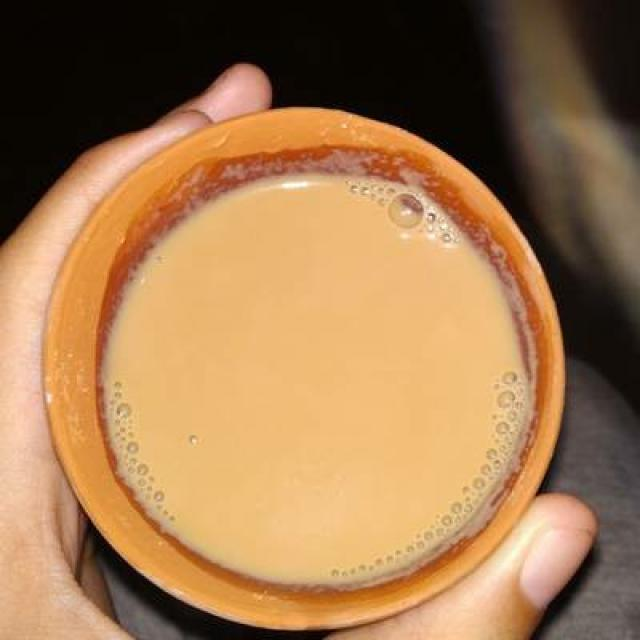Chai: (106, 157, 534, 582)
